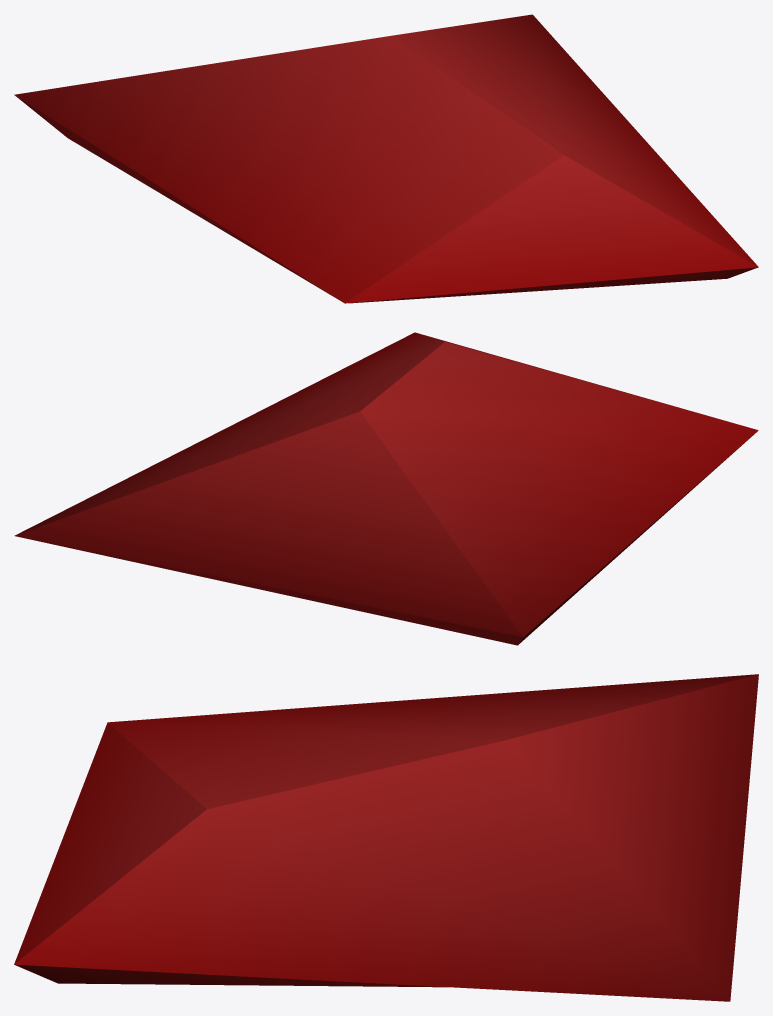
Rendered from c_roof_squaretri_ab.fbx.
3 renders of one model, top to bottom at view 1: azimuth 30°, elevation 25°; view 2: azimuth 150°, elevation 25°; view 3: azimuth 270°, elevation 25°, orthographic. The views are drawn at different scales.
Parts seen in each view (by area): view 1: c_roof_squaretri_ab; view 2: c_roof_squaretri_ab; view 3: c_roof_squaretri_ab.
Part boxes in pixels (x1=…): c_roof_squaretri_ab: x1=14, y1=14, x2=758, y2=303; c_roof_squaretri_ab: x1=14, y1=332, x2=758, y2=645; c_roof_squaretri_ab: x1=14, y1=674, x2=758, y2=1001.
Size of the model in its own units: 7.24 by 1.89 by 7.92.
